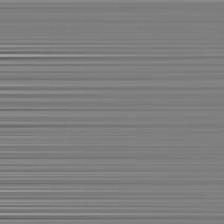cavities: (0, 61, 151, 135)
